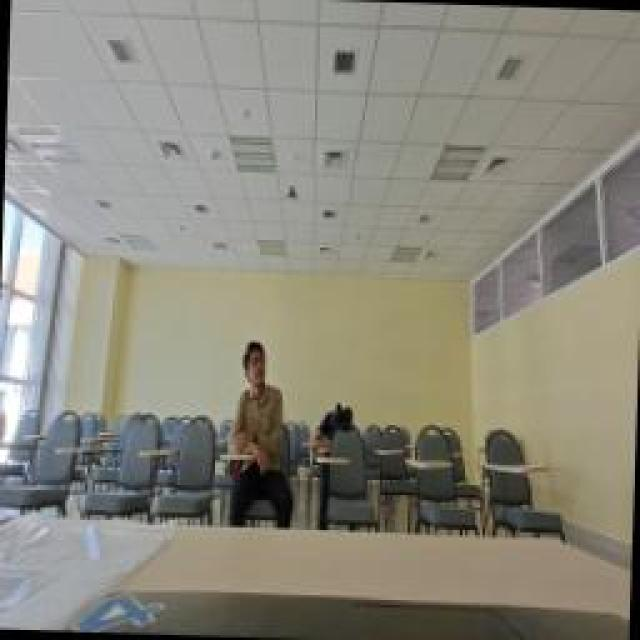sleep: (312, 390, 358, 455)
study: (225, 335, 303, 527)
